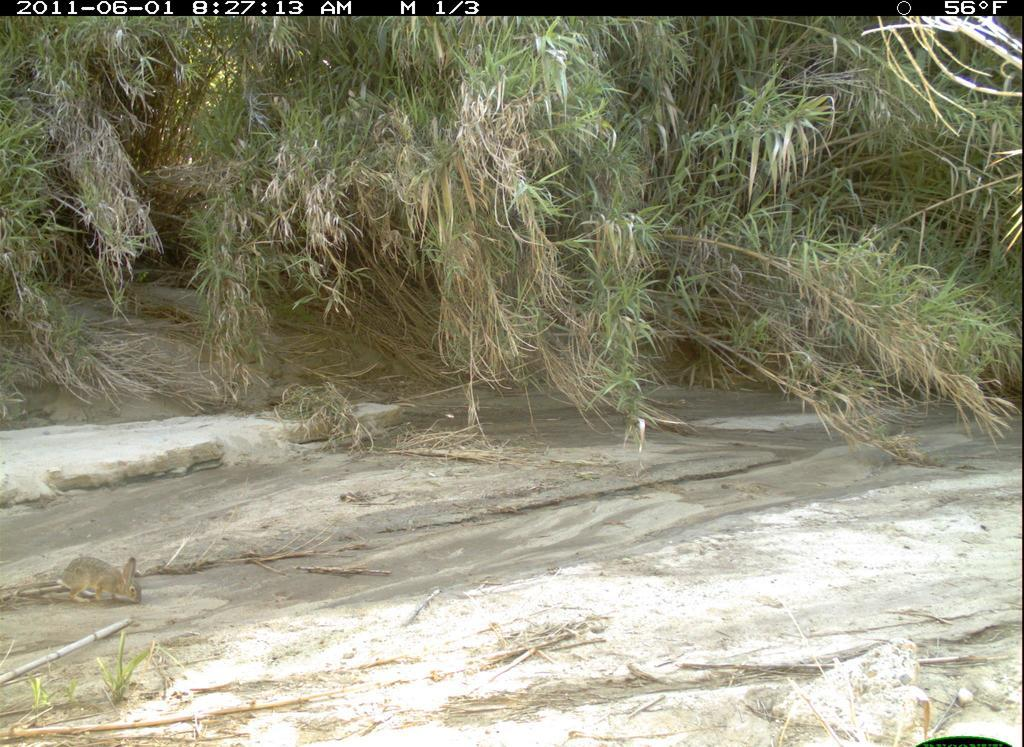rabbit: (38, 547, 154, 624)
